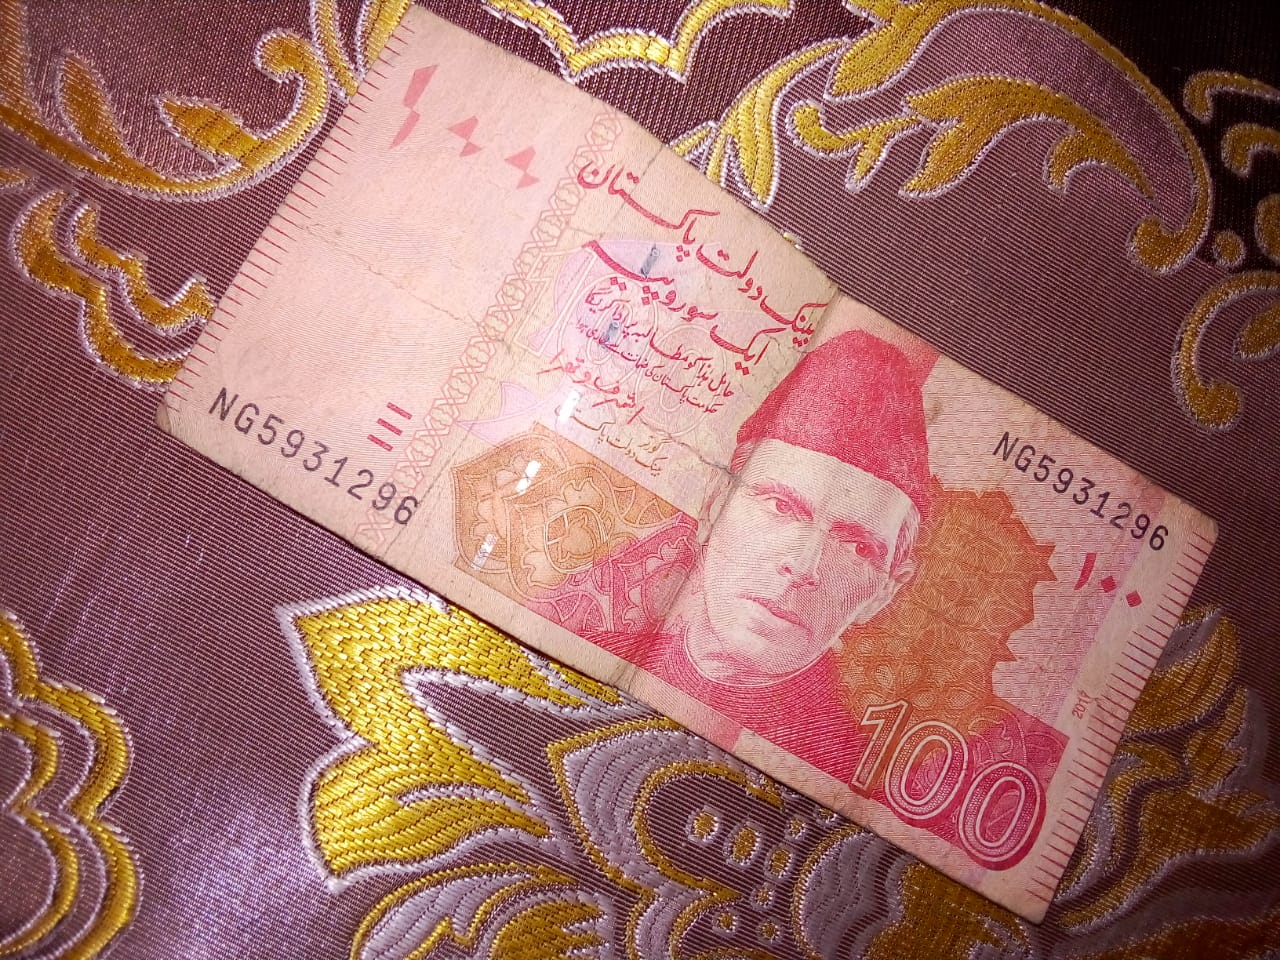100 rupee: (144, 25, 1245, 921)
